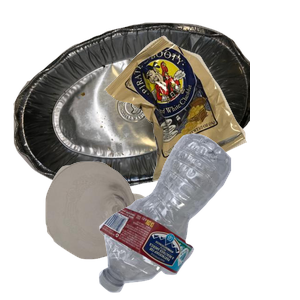glass: (43, 159, 187, 300)
metal: (11, 20, 251, 200)
plastic: (96, 131, 300, 300)
trash: (101, 33, 300, 206)
